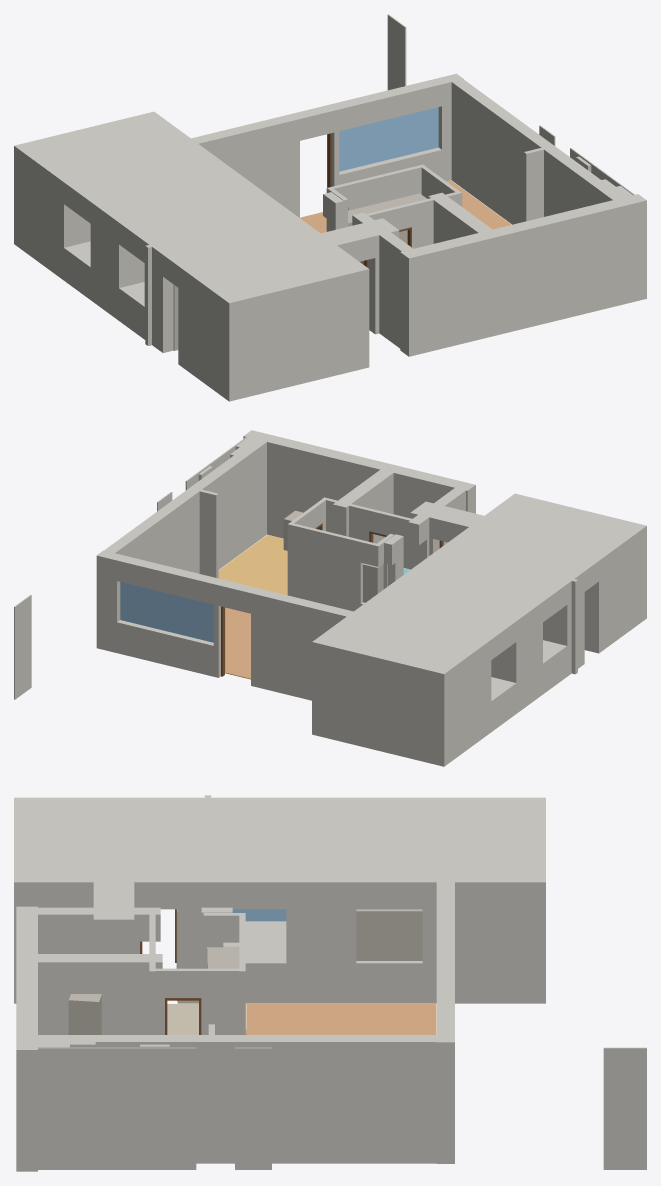
3 renders of one model, top to bottom at view 1: azimuth 30°, elevation 25°; view 2: azimuth 150°, elevation 25°; view 3: azimuth 270°, elevation 25°, orthographic. The views are drawn at different scales.
Parts seen in each view (by area): view 1: walls, window_2, floor_0_Living_Room, furniture_1_closet; view 2: walls, window_2, floor_2_Kitchen, floor_0_Living_Room, furniture_1_closet; view 3: walls, floor_0_Living_Room, furniture_0_closet, furniture_3_closet, floor_1_Entry, furniture_1_closet, window_6.
Part boxes in pixels (x1,y1,x2,y2): walls: (14,14,646,401); window_2: (339,107,438,171); floor_0_Living_Room: (299,180,511,233); furniture_1_closet: (348,193,426,243); walls: (14,430,646,766); window_2: (120,582,213,642); floor_2_Kitchen: (218,535,287,595); floor_0_Living_Room: (225,608,250,679); furniture_1_closet: (363,563,383,602); walls: (14,795,646,1171); floor_0_Living_Room: (245,1004,436,1034); furniture_0_closet: (356,909,422,960); furniture_3_closet: (68,994,101,1034); floor_1_Entry: (167,1004,245,1034); furniture_1_closet: (207,946,239,968); window_6: (232,909,286,921).
Bounding box in the file's own units: 12.14 × 2.72 × 12.74.
